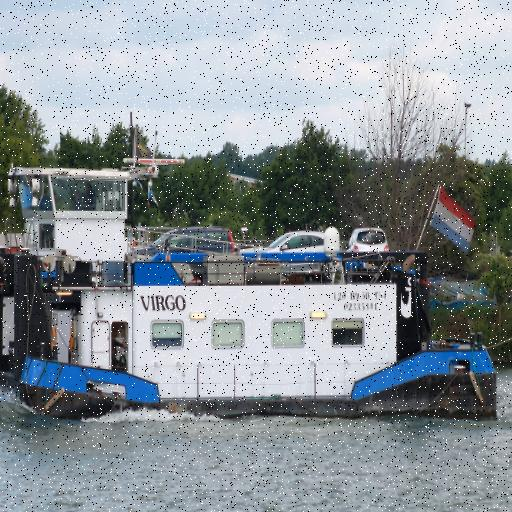tugboat: (1, 154, 505, 450)
